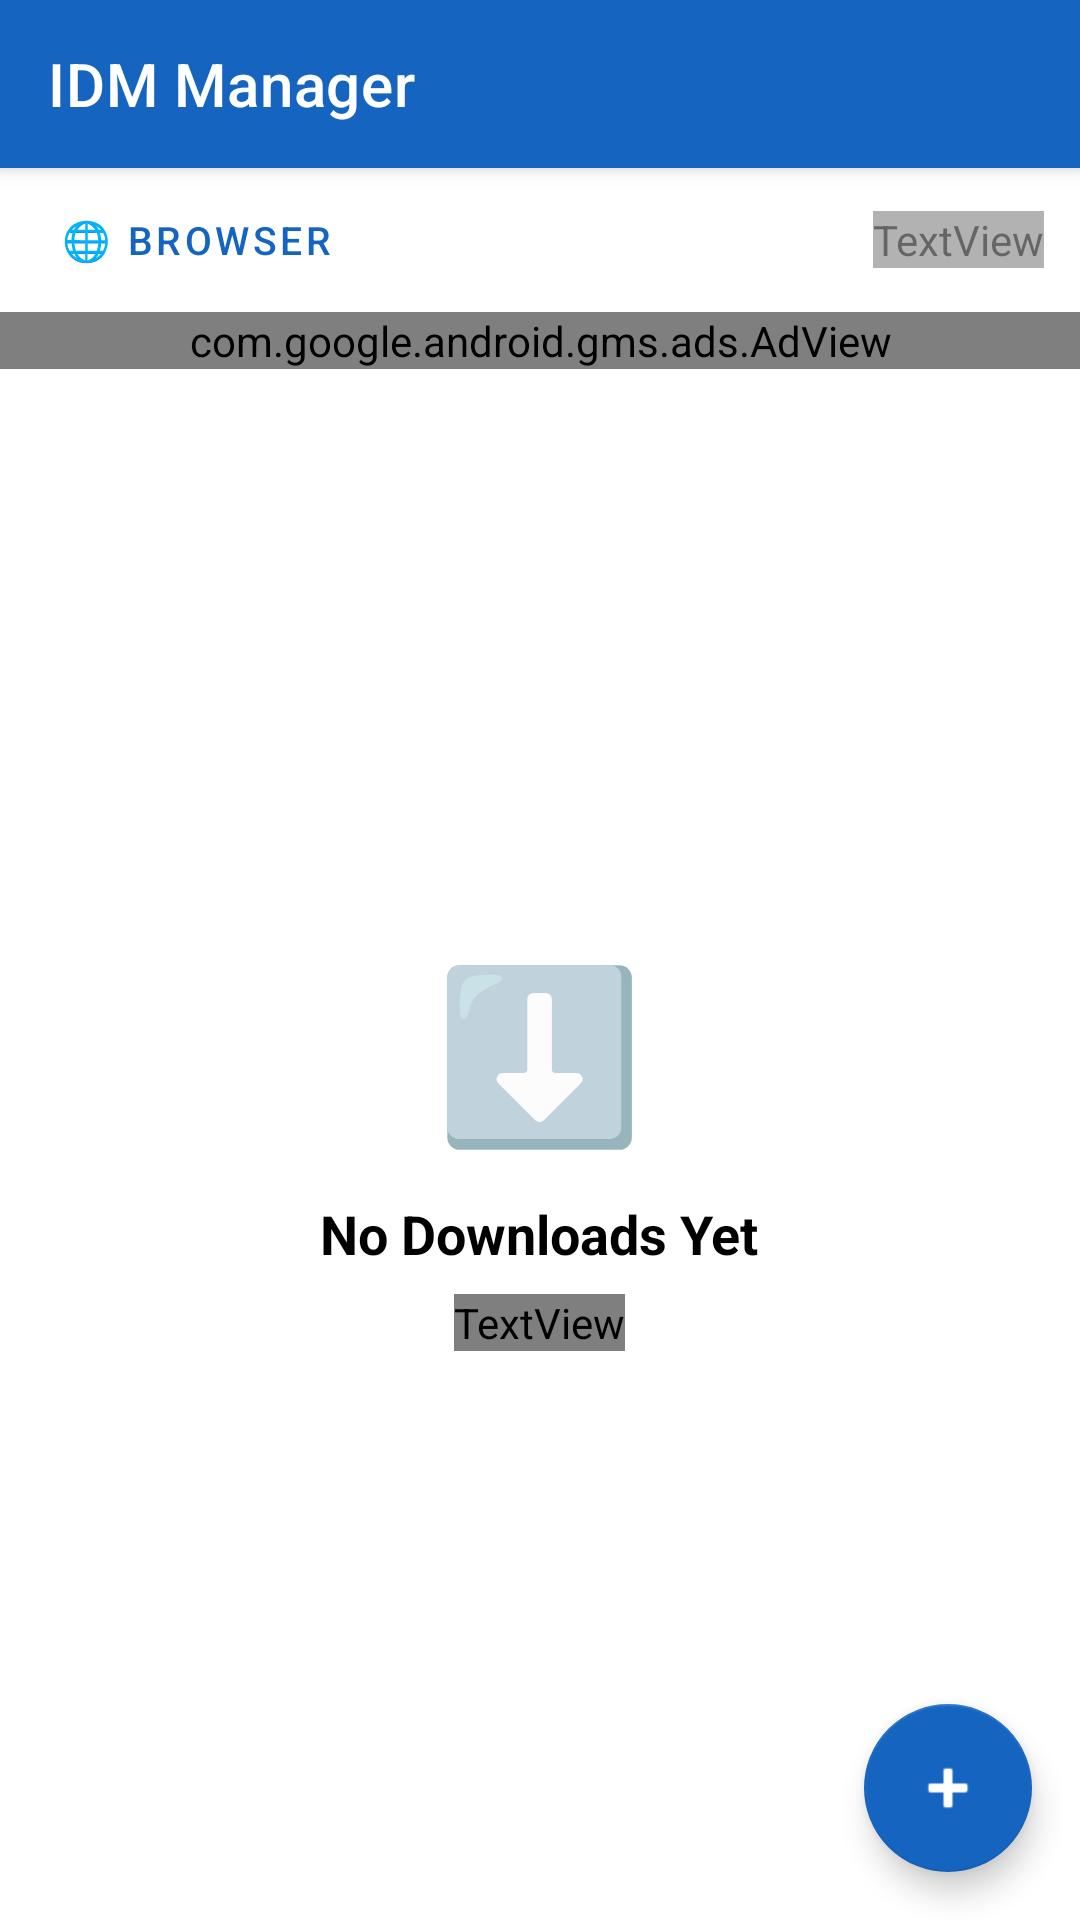

Locate icon controls on the screen. Image size 1080w x 1920h, boxes as (x1, y1, x2, y2).
Add download: (864, 1704, 1032, 1872)
